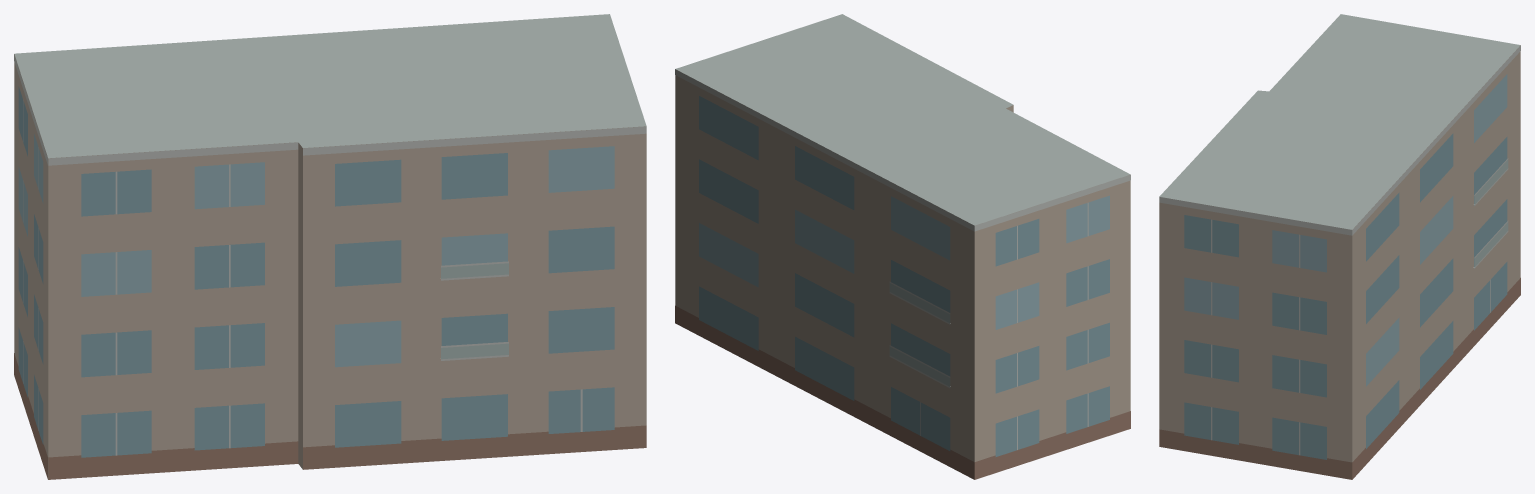
The model's file is survey-upis-32724849.glb.
3 views of the same model, side by side, from view 1: azimuth 30°, elevation 25°; view 2: azimuth 150°, elevation 25°; view 3: azimuth 270°, elevation 25° (orthographic). The views are drawn at different scales.
Visible parts, largest first — view 1: survey-upis-32724849.tmp; view 2: survey-upis-32724849.tmp; view 3: survey-upis-32724849.tmp.
Boxes of the visible parts, left/top/right/bottom form: survey-upis-32724849.tmp: left=14, top=14, right=646, bottom=479; survey-upis-32724849.tmp: left=675, top=14, right=1130, bottom=479; survey-upis-32724849.tmp: left=1159, top=14, right=1520, bottom=479.
Size of the model in its own units: 19.46 by 10.5 by 13.77.
